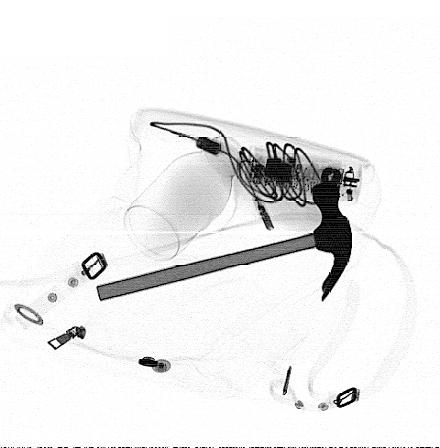Hammer: (96, 179, 353, 304)
